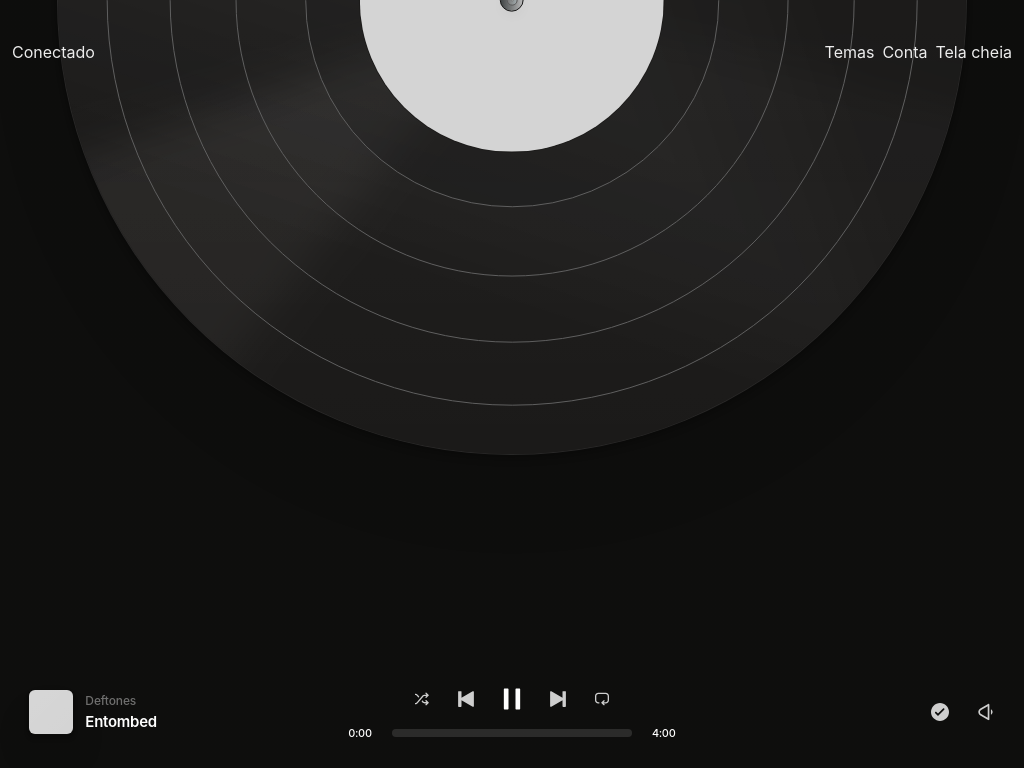
Test: VinylPlayerTheme › keeps the volume slider behind a panel
Click the button named "Volume" at (986, 712), box [978,703,996,721]
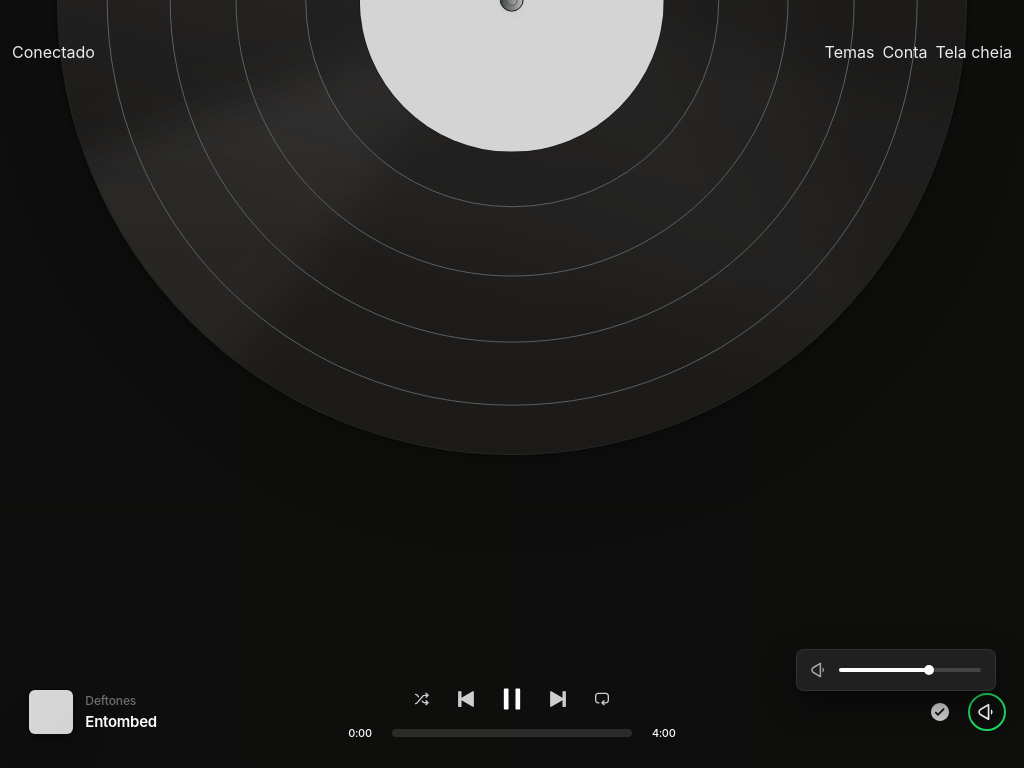
Expected: the dialog named "Volume" is shown, [796,649,996,691]
Expected: the button named "Silenciar" is enabled, [810,662,826,678]
